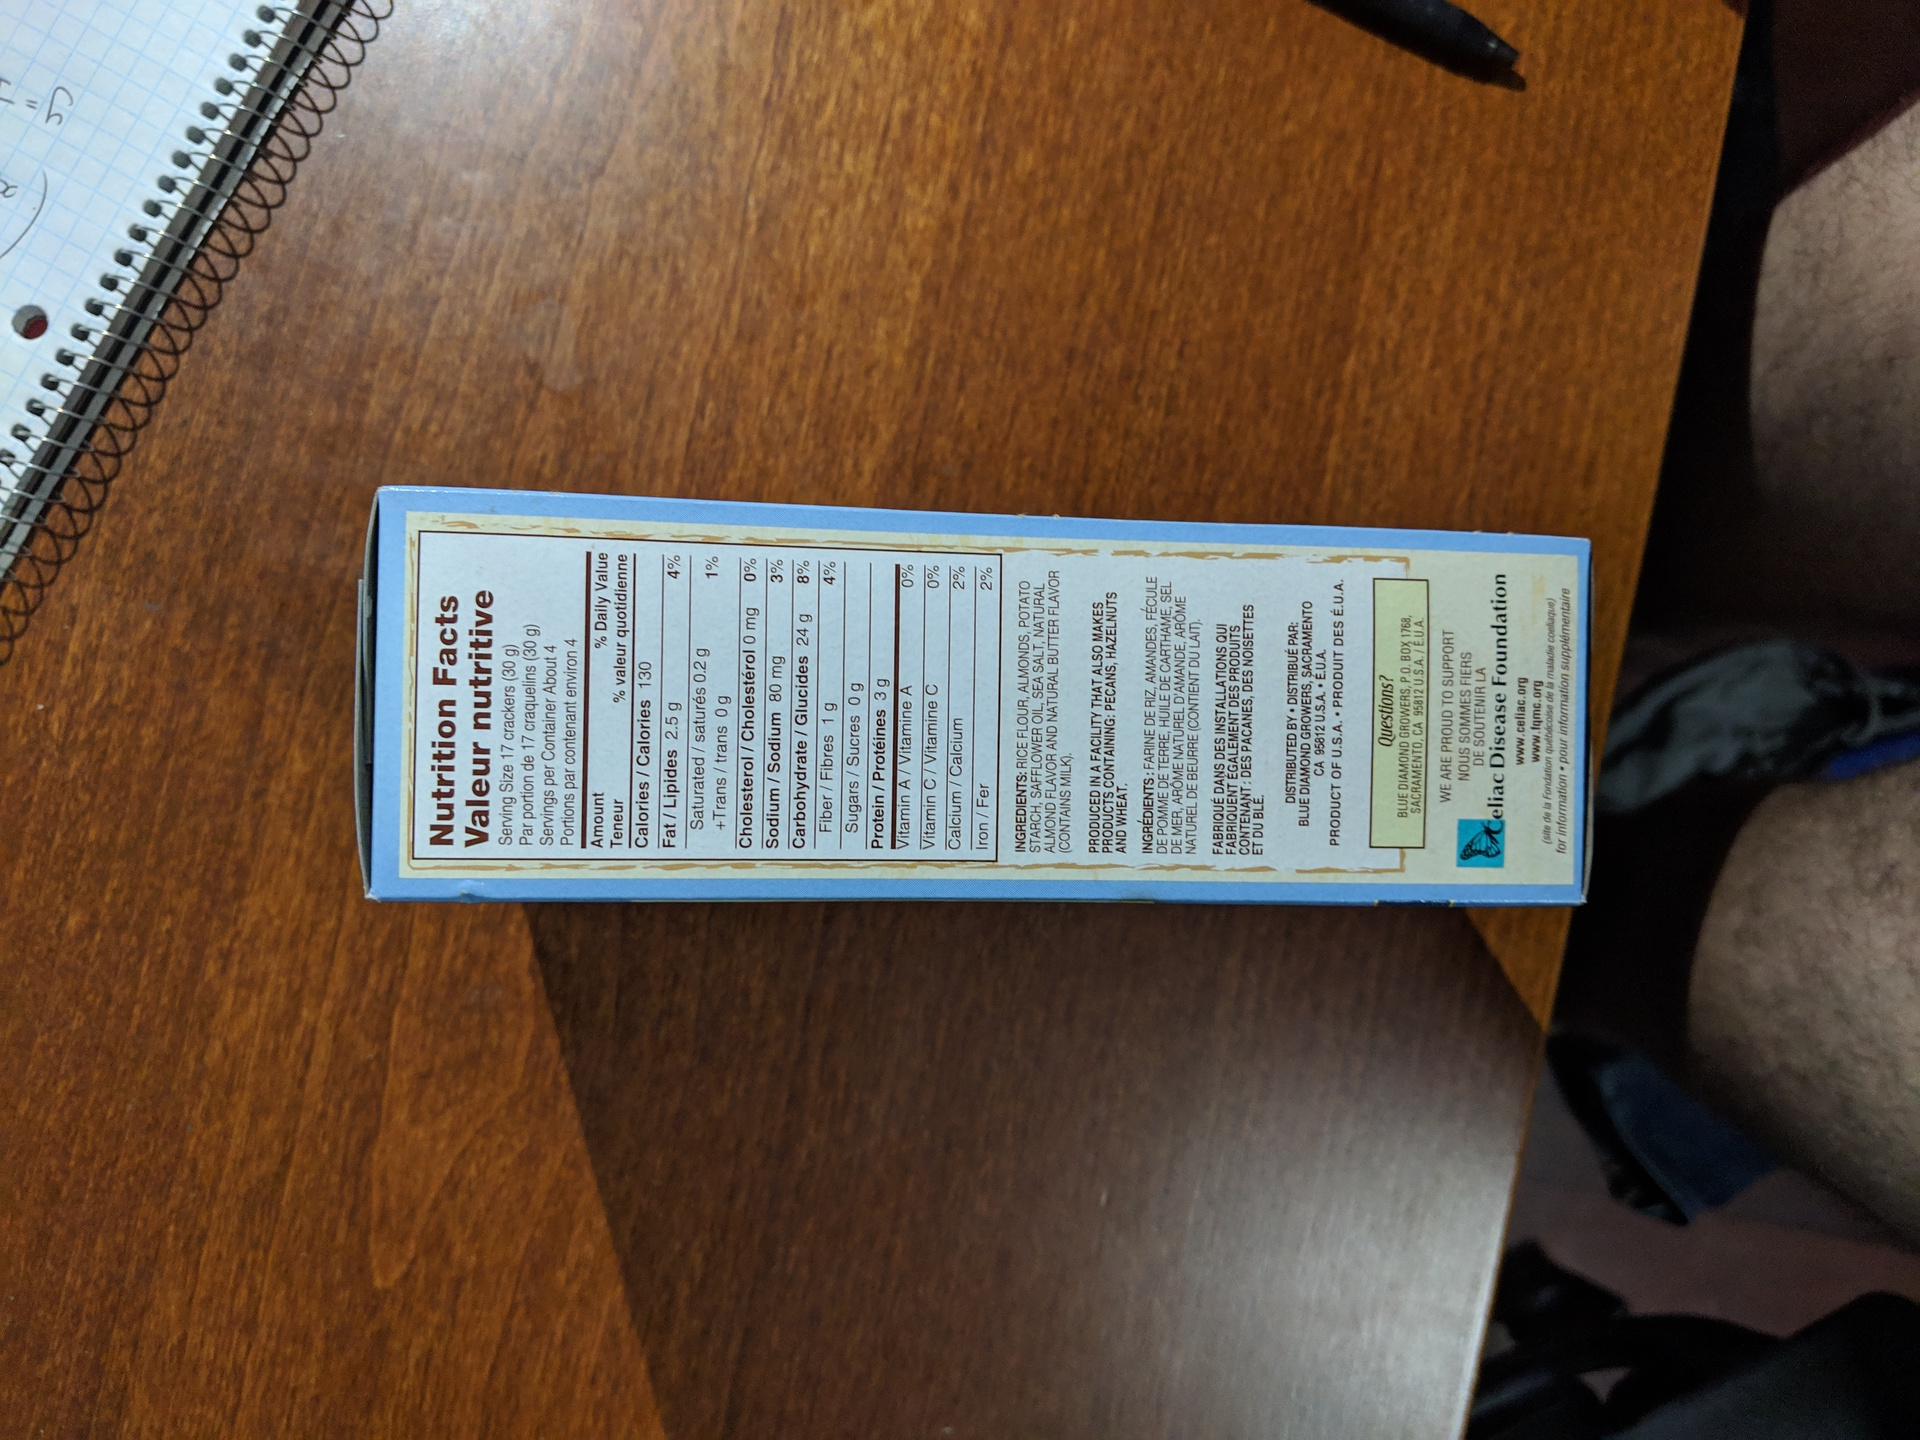blue_diamond_nut_thins_almond_seasalt: (370, 486, 1596, 923)
